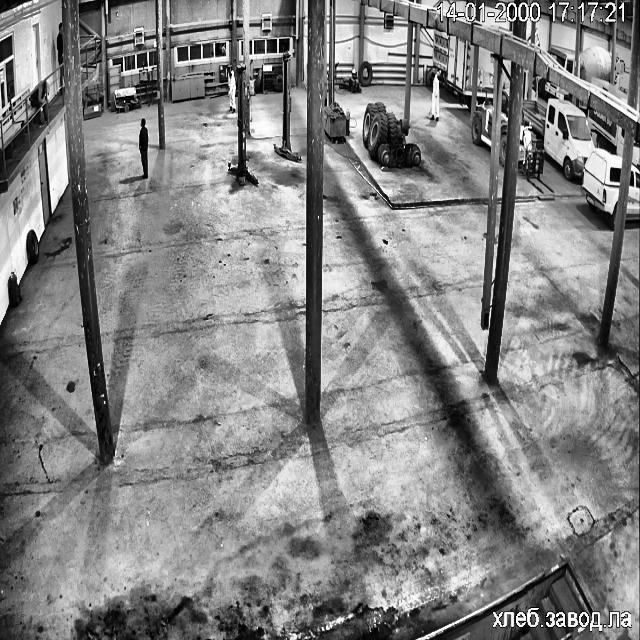class4: (29, 81, 48, 126), (139, 118, 148, 178), (56, 21, 63, 89), (430, 74, 439, 121), (245, 81, 251, 136), (228, 69, 235, 111)
class7: (524, 99, 593, 180), (432, 28, 474, 108), (580, 148, 620, 228), (588, 108, 624, 156), (518, 114, 542, 177), (471, 98, 496, 147), (577, 45, 610, 82), (476, 46, 494, 100), (498, 89, 509, 164), (593, 80, 626, 103), (626, 165, 640, 219), (548, 45, 574, 73), (536, 77, 564, 100), (632, 140, 640, 164), (616, 61, 623, 76), (504, 60, 510, 76), (492, 27, 508, 32), (536, 31, 540, 44), (504, 60, 509, 69), (428, 74, 432, 83), (528, 28, 530, 37)
tractor: (8, 272, 21, 306)
truck: (228, 64, 257, 185), (274, 52, 300, 161)
